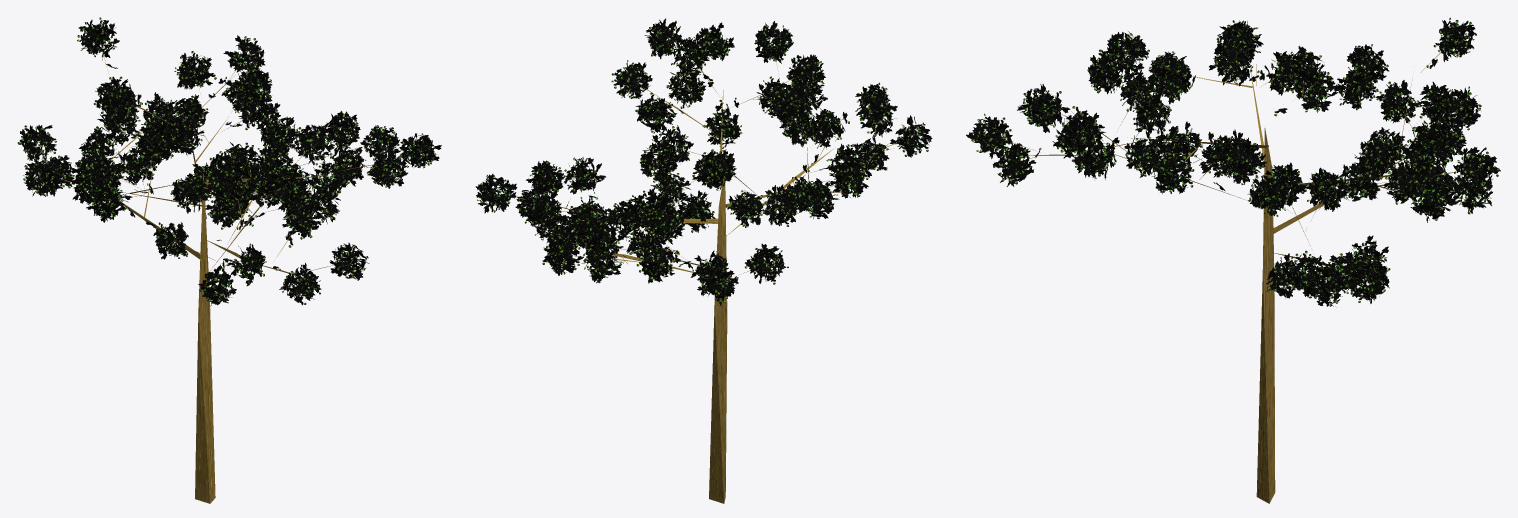
Rendered from pine_open_v03_LOD1.fbx.
The picture shows the model from 3 angles, left to right: view 1: azimuth 30°, elevation 25°; view 2: azimuth 150°, elevation 25°; view 3: azimuth 270°, elevation 25°; orthographic projection. The views are drawn at different scales.
Visible parts, largest first — view 1: pine_open_v03_LOD1; view 2: pine_open_v03_LOD1; view 3: pine_open_v03_LOD1.
Part boxes in pixels (box(x1,y1,x2,y2)): pine_open_v03_LOD1: box(17, 17, 441, 503); pine_open_v03_LOD1: box(475, 18, 932, 503); pine_open_v03_LOD1: box(966, 17, 1500, 503).
Size of the model in its own units: 2095 by 2907 by 2807.
2 materials, 2 textured.
